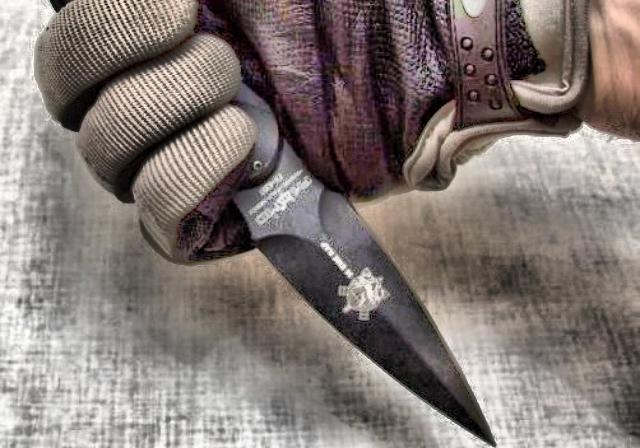knife: (64, 29, 498, 447)
